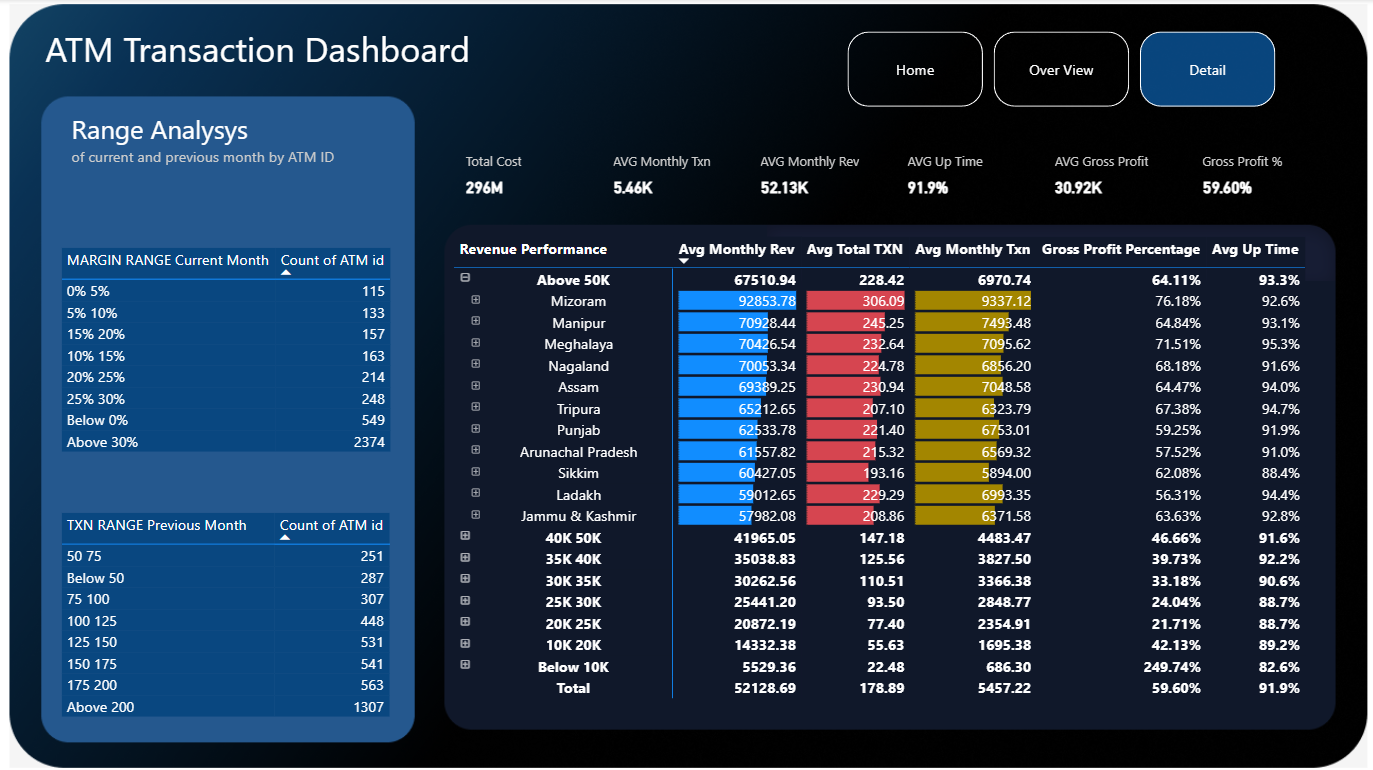

The page's visual inventory and layout, read from the dashboard file:
{"tool":"powerbi","page":{"name":"Detail","canvas":[1280,720],"ordinal":2},"visuals":[{"type":"image","box":[0,0,1280.3,720.5],"z":0},{"type":"tableEx","fields":{"Values":["DATASET.MARGIN RANGE Current Month","DATASET.ATM id"]},"box":[51.7,226.8,327.2,228.2],"z":1000},{"type":"tableEx","fields":{"Values":["DATASET.TXN RANGE Previous Month","DATASET.ATM id"]},"box":[51.7,473.7,333,246.9],"z":2000},{"type":"textbox","box":[61.7,100.5,302.8,81.8],"z":3000},{"type":"pivotTable","fields":{"Rows":["DATASET.Revenue Performance","DATASET.STATE","DATASET.ATM id"],"Values":["Avg(DATASET.Monthly Rev)","Avg(DATASET.AVG Total TXN)","Avg(DATASET.Monthly Txn)","DATASET.Gross Profit Percentage","Avg(DATASET.Up Time)"]},"box":[417.7,216.7,822.4,452.1],"z":4000},{"type":"cardVisual","fields":{"Data":["Sum(DATASET. Total Cost  )","Avg(DATASET.Monthly Txn)","Avg(DATASET.Monthly Rev)","Avg(DATASET.Up Time)","Avg(DATASET. Gross Profit )","DATASET.Gross Profit Percentage"]},"box":[416.3,124.4,826.7,77.9],"z":5000},{"type":"textbox","box":[37.3,20.1,416.2,67.5],"z":6000},{"type":"pageNavigator","box":[788,30.1,399,70.3],"z":6001}]}

Visuals, with their boxes in screenshot pixels (x1, y1, x2, y2), scaled from the page's 1280x720 canvas onto the 1373x770 screenshot:
image: {"left": 0, "top": 0, "right": 1372, "bottom": 769}
tableEx - DATASET.MARGIN RANGE Current Month x DATASET.ATM id: {"left": 55, "top": 243, "right": 406, "bottom": 487}
tableEx - DATASET.TXN RANGE Previous Month x DATASET.ATM id: {"left": 55, "top": 507, "right": 413, "bottom": 769}
textbox: {"left": 66, "top": 107, "right": 391, "bottom": 195}
pivotTable - DATASET.Revenue Performance x DATASET.STATE: {"left": 448, "top": 232, "right": 1330, "bottom": 715}
cardVisual - Sum(DATASET. Total Cost  ) x Avg(DATASET.Monthly Txn): {"left": 447, "top": 133, "right": 1333, "bottom": 216}
textbox: {"left": 40, "top": 21, "right": 486, "bottom": 94}
pageNavigator: {"left": 845, "top": 32, "right": 1273, "bottom": 107}
